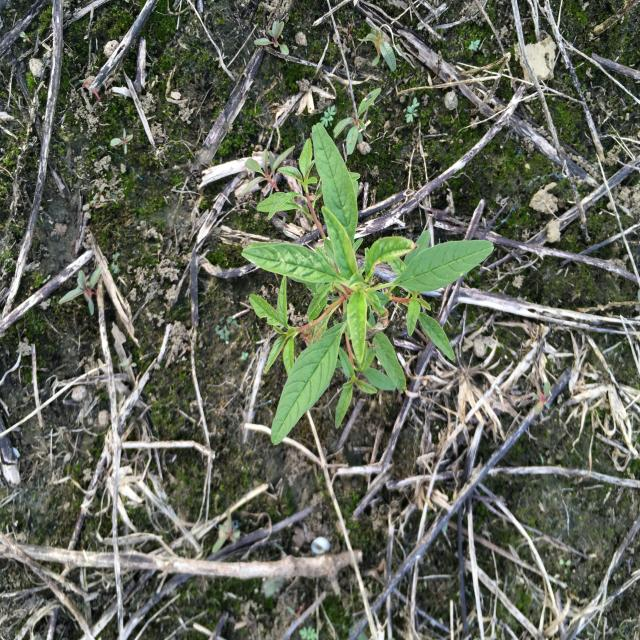Waterhemp: (239, 120, 495, 448)
